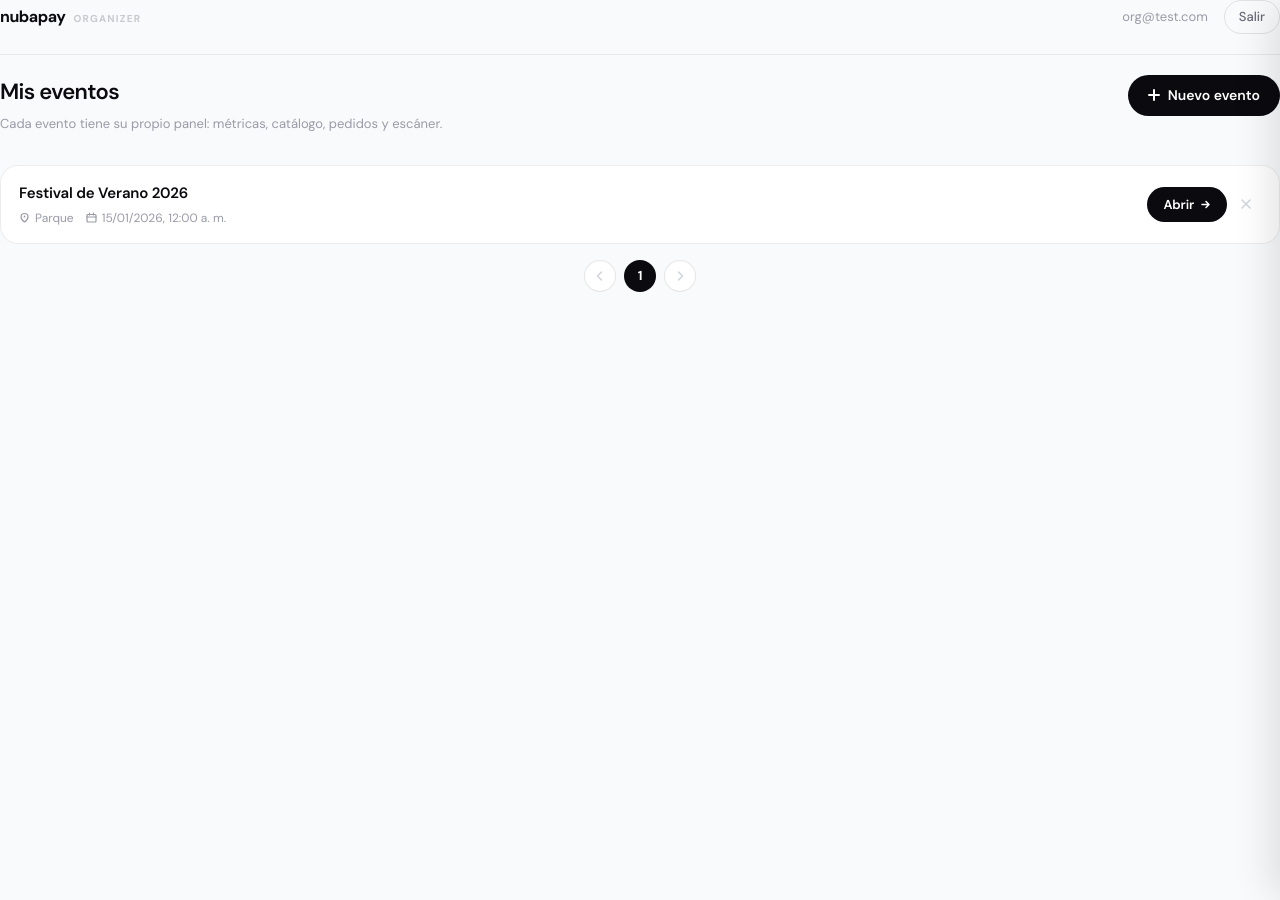
Test: EventsView › crea un evento desde el drawer
The image size is (1280, 900).
Expected: the text "Festival de Verano 2026" is shown, [19, 182, 188, 204]
Click the button "Nuevo evento".
click(1204, 95)  # box [1128, 74, 1279, 116]
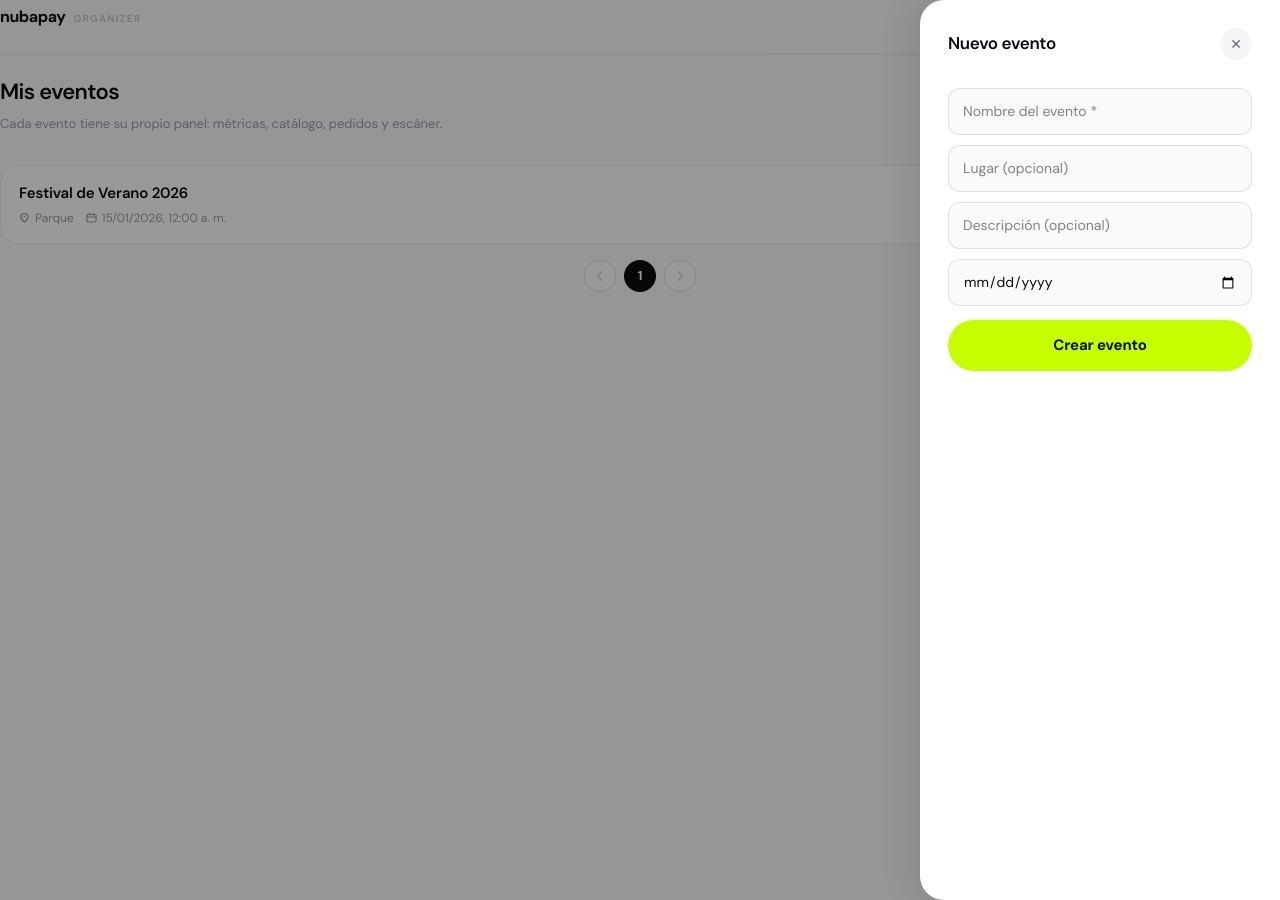
Type "Nuevo Evento" into the field with placeholder "Nombre del evento *".
click(1100, 112); type("Nuevo Evento")  # box [948, 88, 1252, 135]
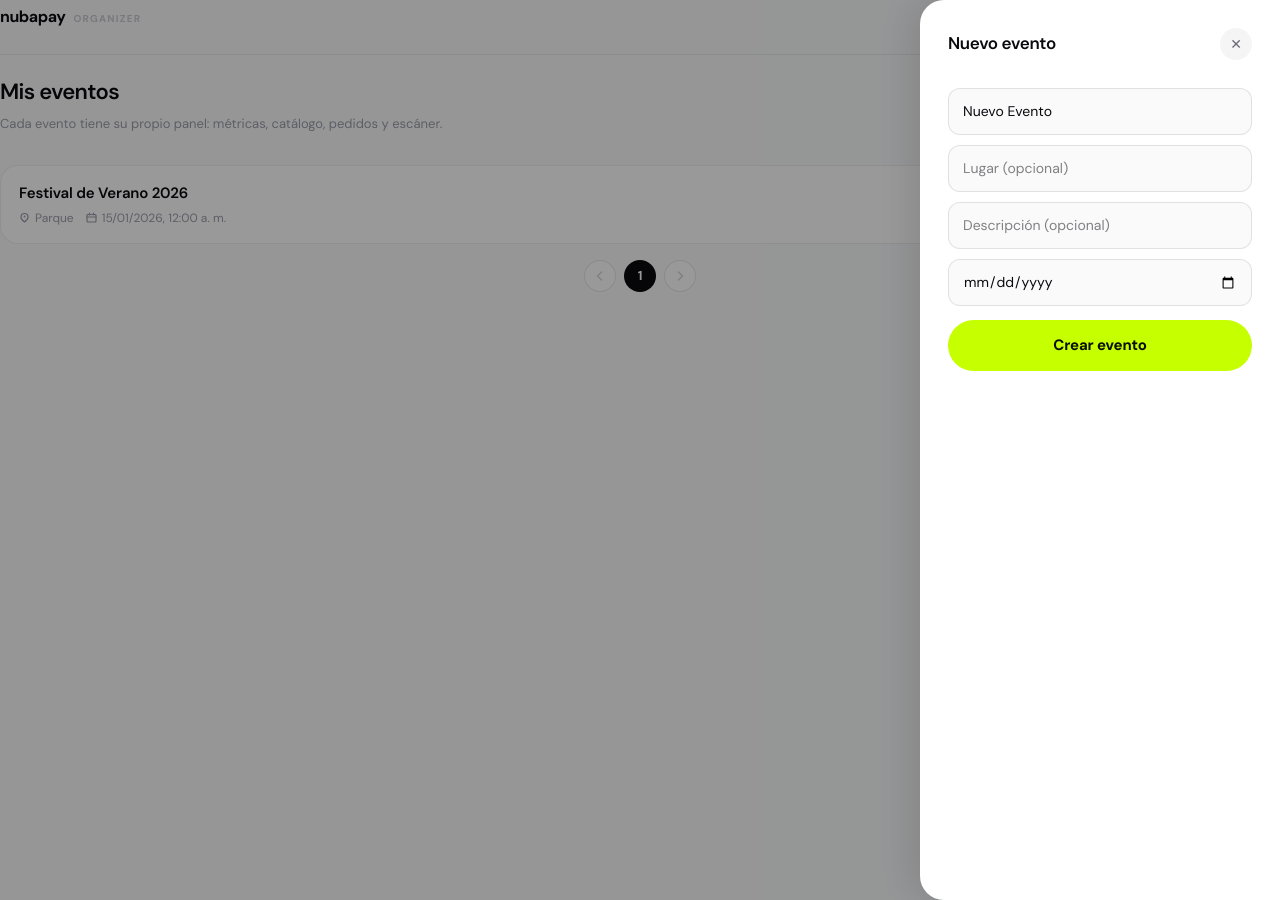
Click the button "Crear evento".
click(1100, 345)  # box [948, 320, 1252, 370]
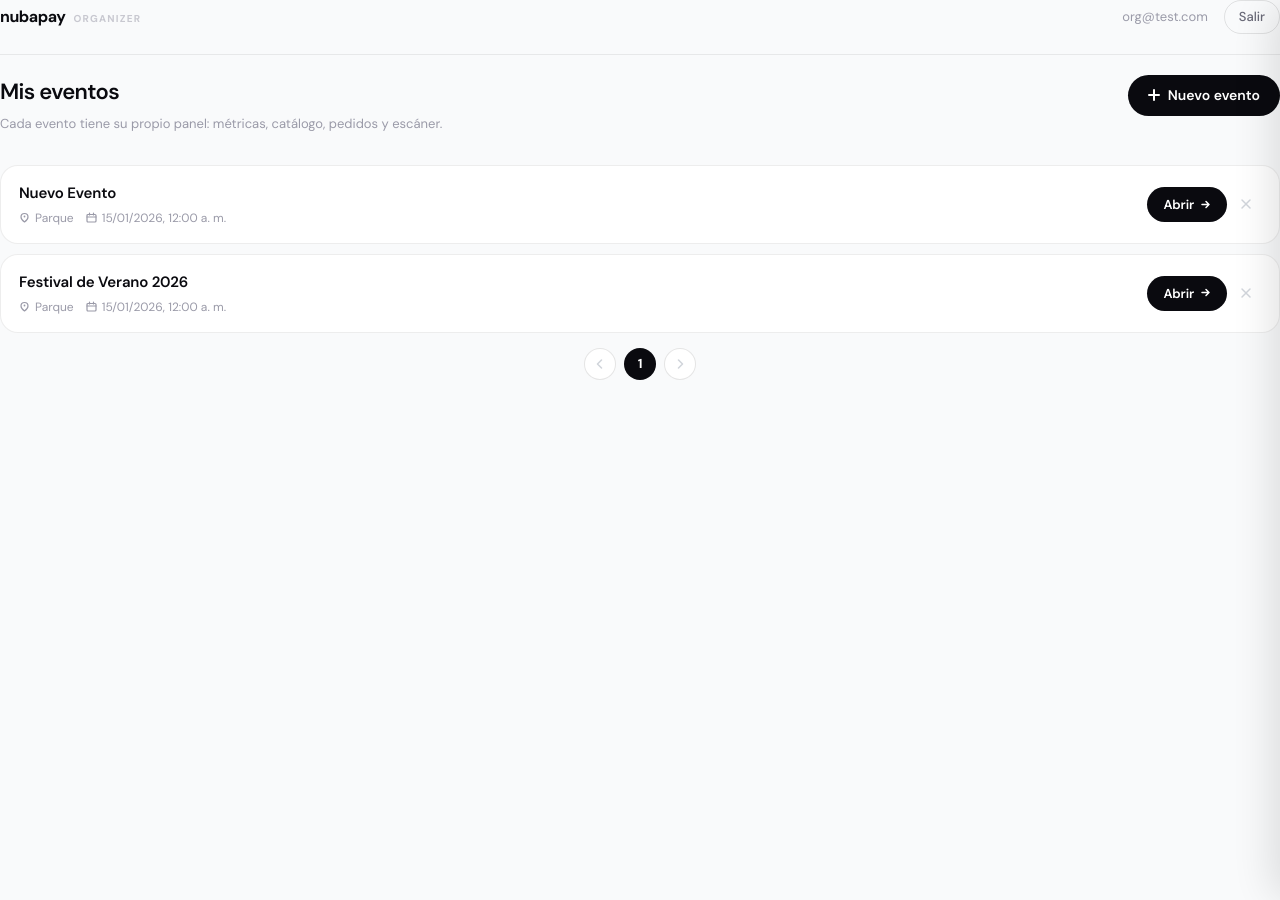
Expected: the text "Nuevo Evento" is shown, [19, 182, 116, 204]
